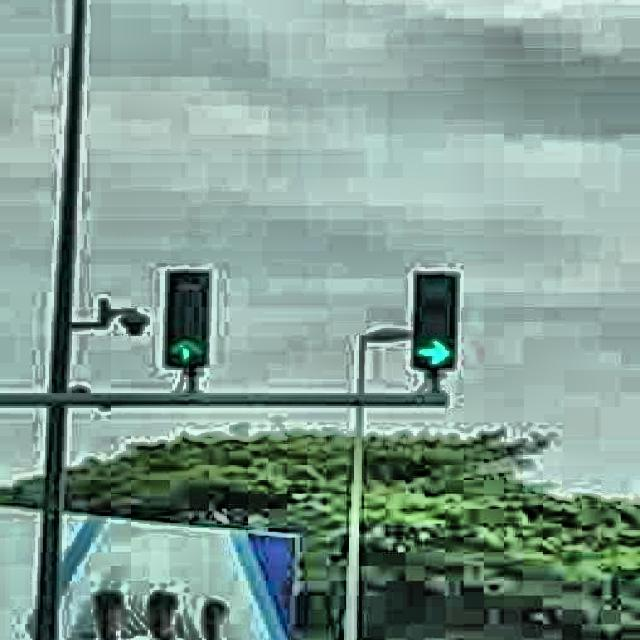green: (165, 268, 210, 368), (412, 269, 457, 366)
